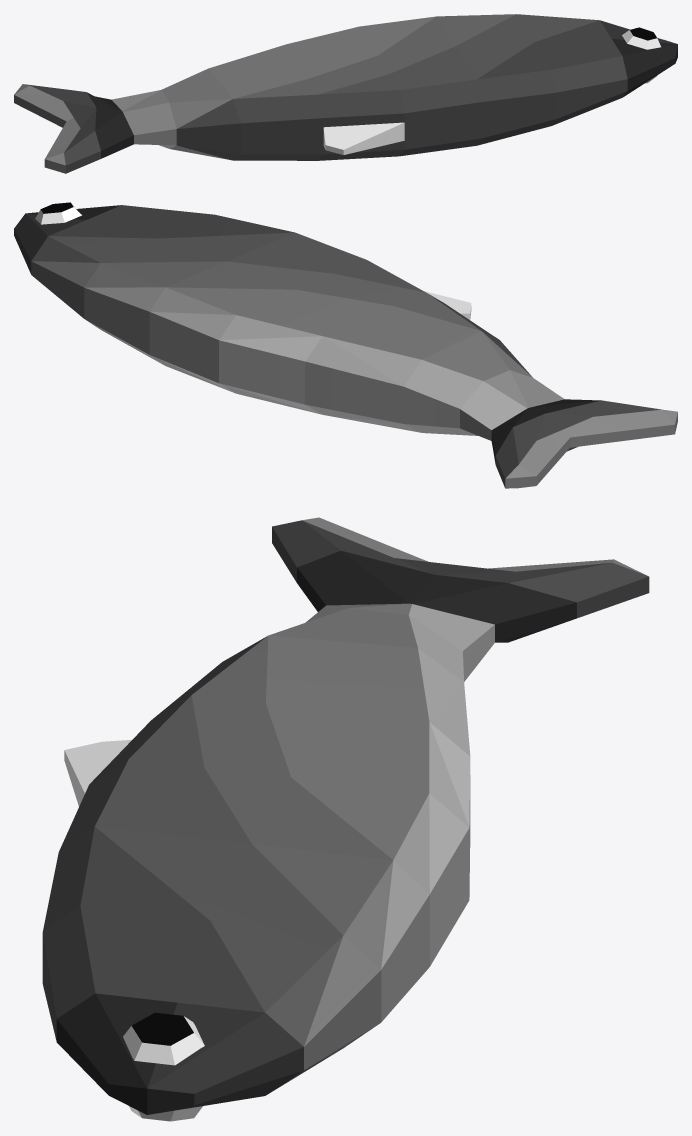
The model's file is DripFish.glb.
3 renders of one model, top to bottom at view 1: azimuth 30°, elevation 25°; view 2: azimuth 150°, elevation 25°; view 3: azimuth 270°, elevation 25°, orthographic. The views are drawn at different scales.
Visible parts, largest first — view 1: DripFish; view 2: DripFish; view 3: DripFish.
Boxes of the visible parts, x1,y1,x2,y2 form: DripFish: (14,14,677,173); DripFish: (14,202,677,488); DripFish: (42,517,649,1121).
Bounding box in the file's own units: 0.9114 × 0.0978 × 0.4054.
Materials: 1 (1 with a texture image).
